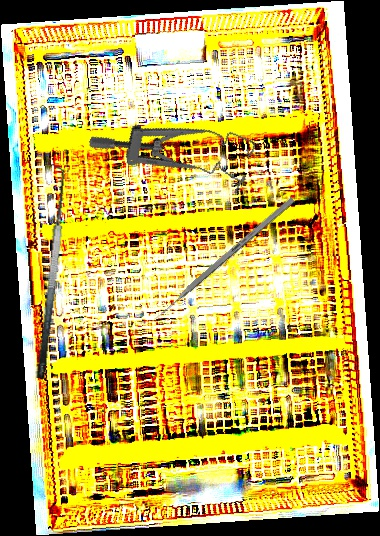Pusher: (149, 196, 296, 325)
Spatula Surgical: (17, 163, 77, 380)
Speculum: (86, 83, 261, 208)
